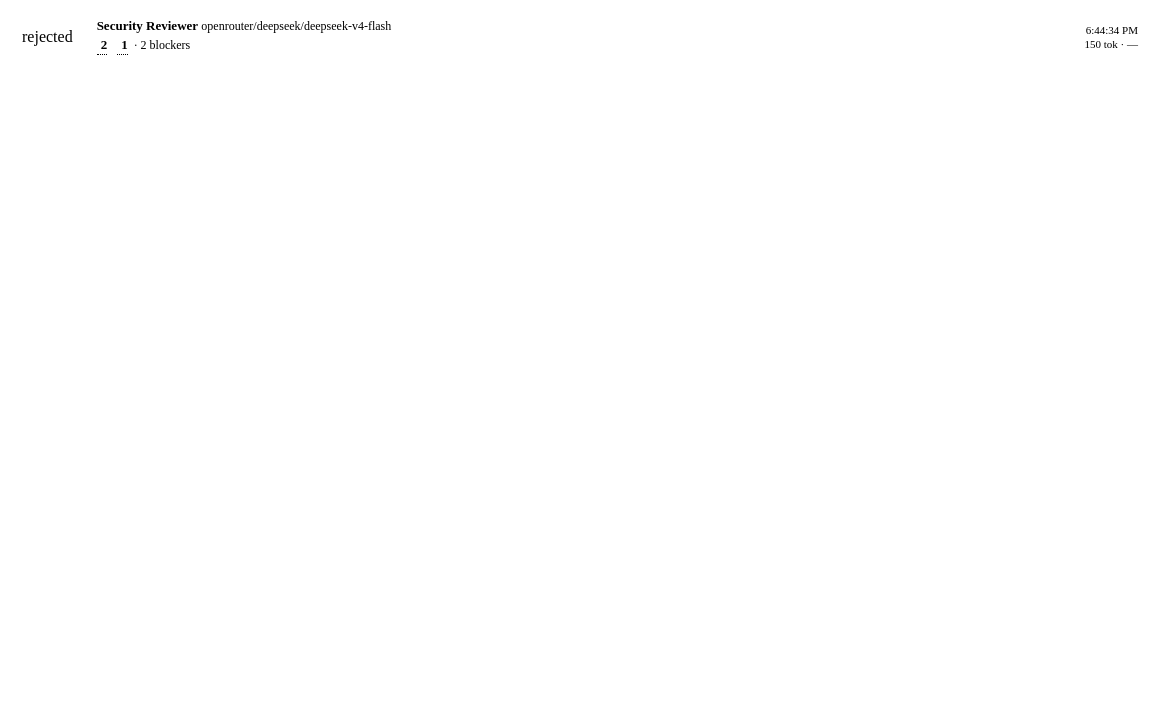
RunHistory — per-severity finding counts › clicking a count opens the popover with that run's findings of that severity
Click the button named "2 critical findings".
click(102, 46)  # box x1=97 y1=36 x2=107 y2=55
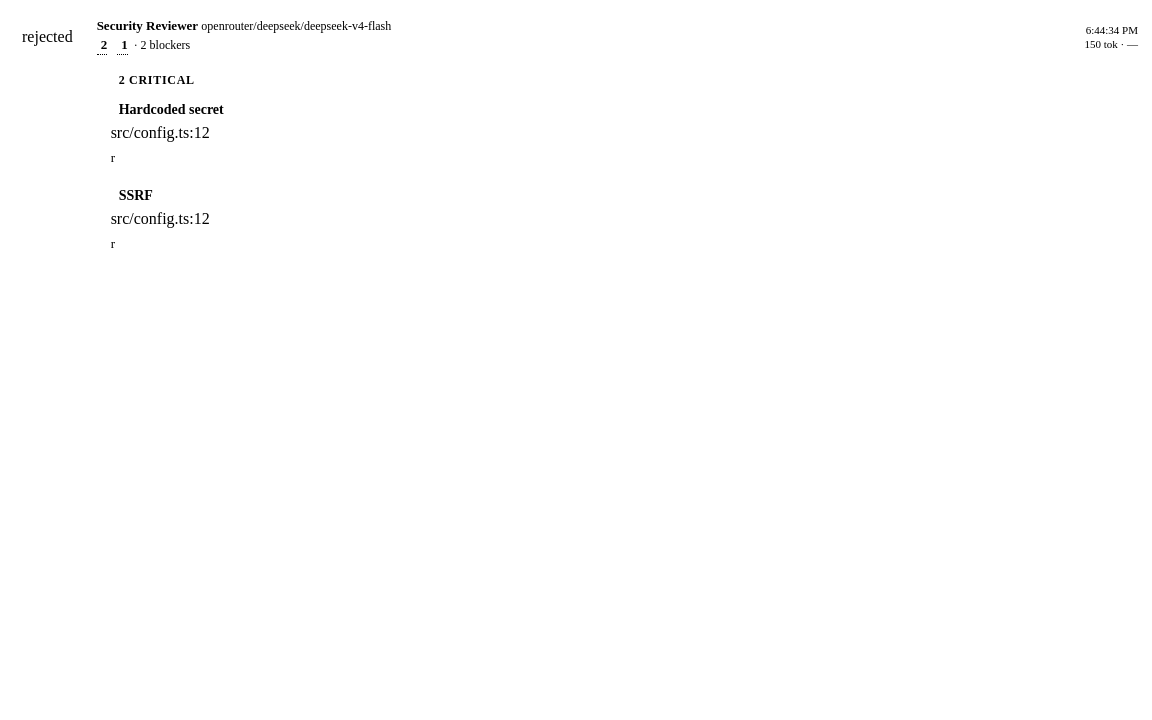
Check: the text "Hardcoded secret" is shown, box x1=119 y1=102 x2=224 y2=118
Check: the text "SSRF" is shown, box x1=119 y1=188 x2=153 y2=204
